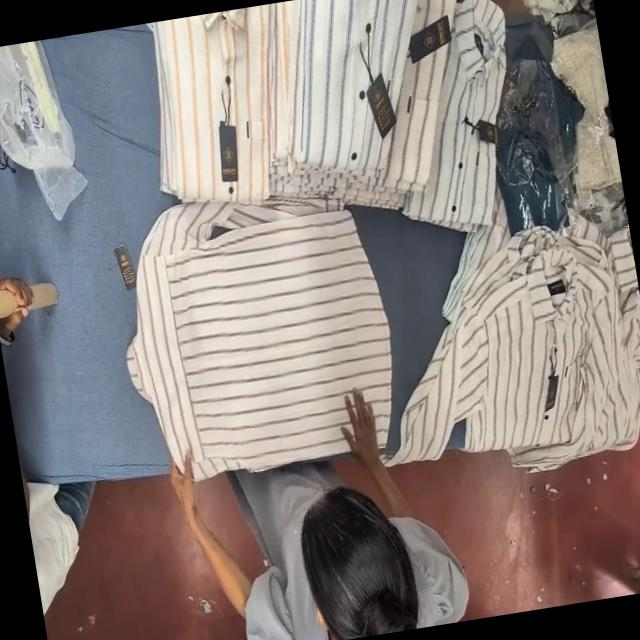new-garment: (128, 204, 390, 477)
